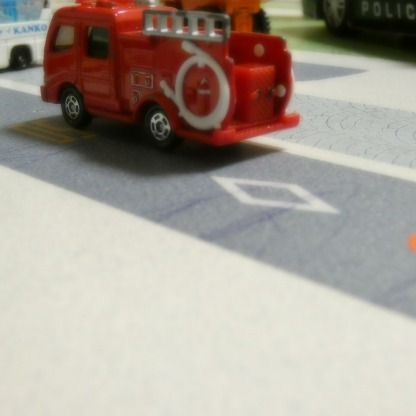car: (49, 0, 296, 146), (302, 0, 414, 45), (0, 0, 47, 72)
